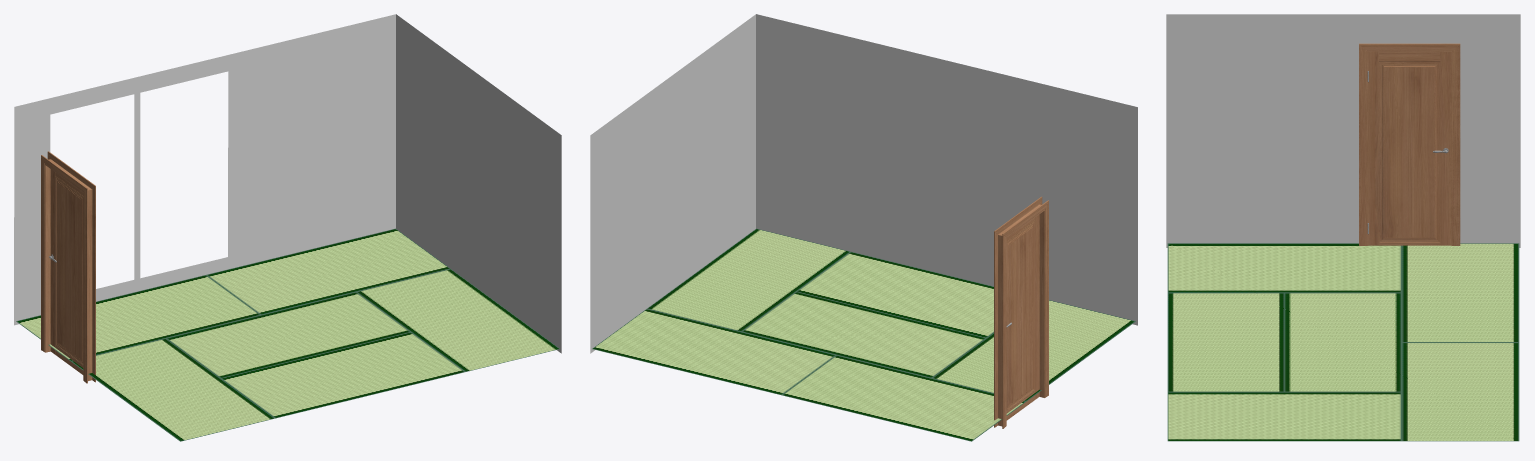
The model's file is room.glb.
The picture shows the model from 3 angles, left to right: view 1: azimuth 30°, elevation 25°; view 2: azimuth 150°, elevation 25°; view 3: azimuth 270°, elevation 25°; orthographic projection. The views are drawn at different scales.
Parts seen in each view (by area): view 1: Plane, Plane.002, Wall.001, d2; view 2: Plane.001, Plane, Wall.001, d2; view 3: Plane, Door.001, d2.
Boxes of the visible parts, x1,y1,x2,y2 form: Plane: [16, 228, 559, 441]; Plane.002: [14, 14, 395, 325]; Wall.001: [396, 14, 561, 353]; d2: [41, 151, 95, 383]; Plane.001: [756, 14, 1137, 325]; Plane: [592, 228, 1135, 441]; Wall.001: [590, 14, 755, 353]; d2: [994, 196, 1048, 428]; Plane: [1167, 243, 1519, 441]; Door.001: [1166, 14, 1520, 247]; d2: [1359, 43, 1460, 245].
Size of the model in its own units: 3.68 by 2.03 by 2.75.
3 materials, 2 textured.
